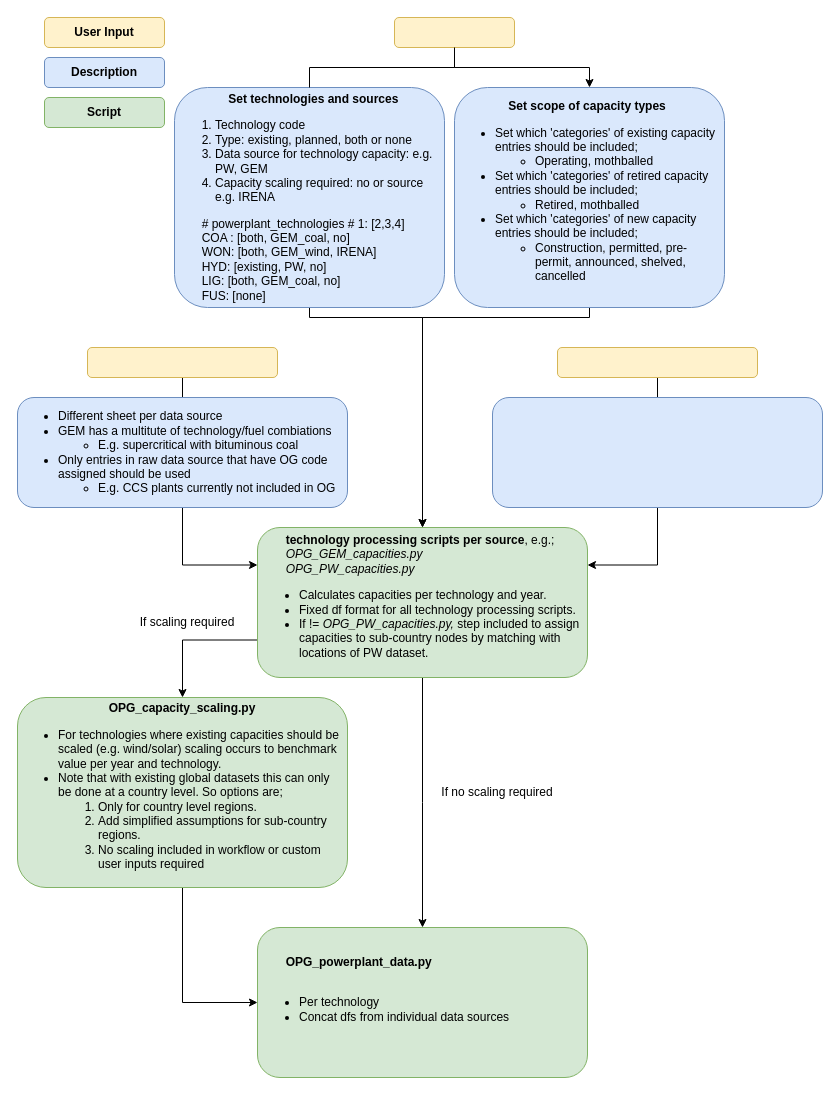
The diagram is 840 pixels wide and 1095 high, and some of its shapes have lost their labels. The centre of each missing label's shape, as x and y in pixels:
"Config File" belongs at [454,32].
"Different sheet per data source Matches data source naming convention to ISO3." belongs at [657,452].
"naming_convention_regions.xlsx" belongs at [657,362].
"naming_convention_tech.xlsx" belongs at [182,362].
